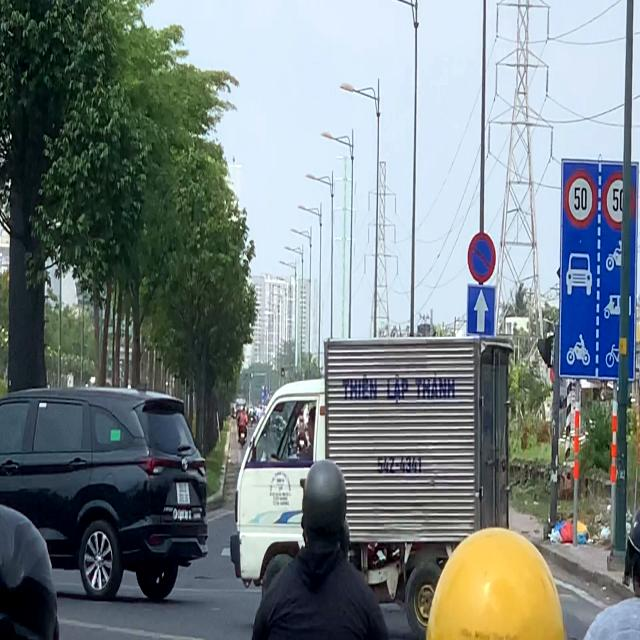P.131a: (468, 231, 497, 283)
R.407a: (467, 284, 495, 338)
